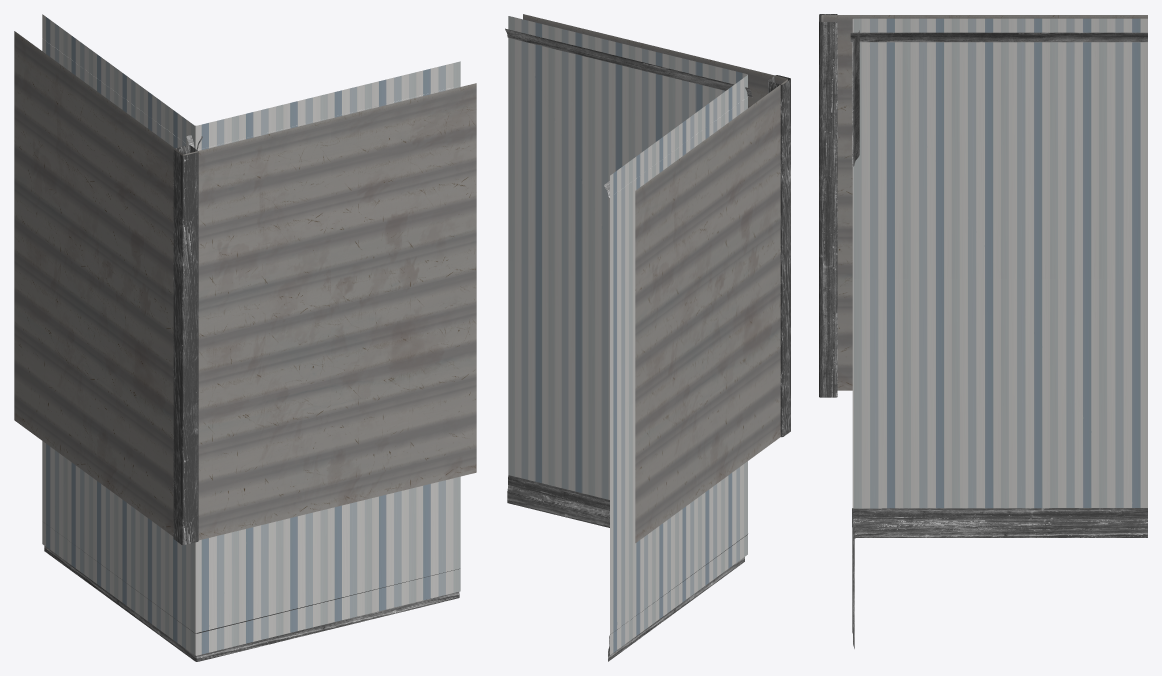
File: SM_Corner_2Floor_A.fbx
The picture shows the model from 3 angles, left to right: view 1: azimuth 30°, elevation 25°; view 2: azimuth 150°, elevation 25°; view 3: azimuth 270°, elevation 25°; orthographic projection. The views are drawn at different scales.
Visible parts, largest first — view 1: SM_Corner_2Floor_A; view 2: SM_Corner_2Floor_A; view 3: SM_Corner_2Floor_A.
Boxes of the visible parts, bbox=[...] form: SM_Corner_2Floor_A: bbox=[14, 14, 476, 661]; SM_Corner_2Floor_A: bbox=[505, 14, 790, 661]; SM_Corner_2Floor_A: bbox=[819, 14, 1147, 648].
Size of the model in its own units: 148 by 148 by 258.
3 materials, 3 textured.
